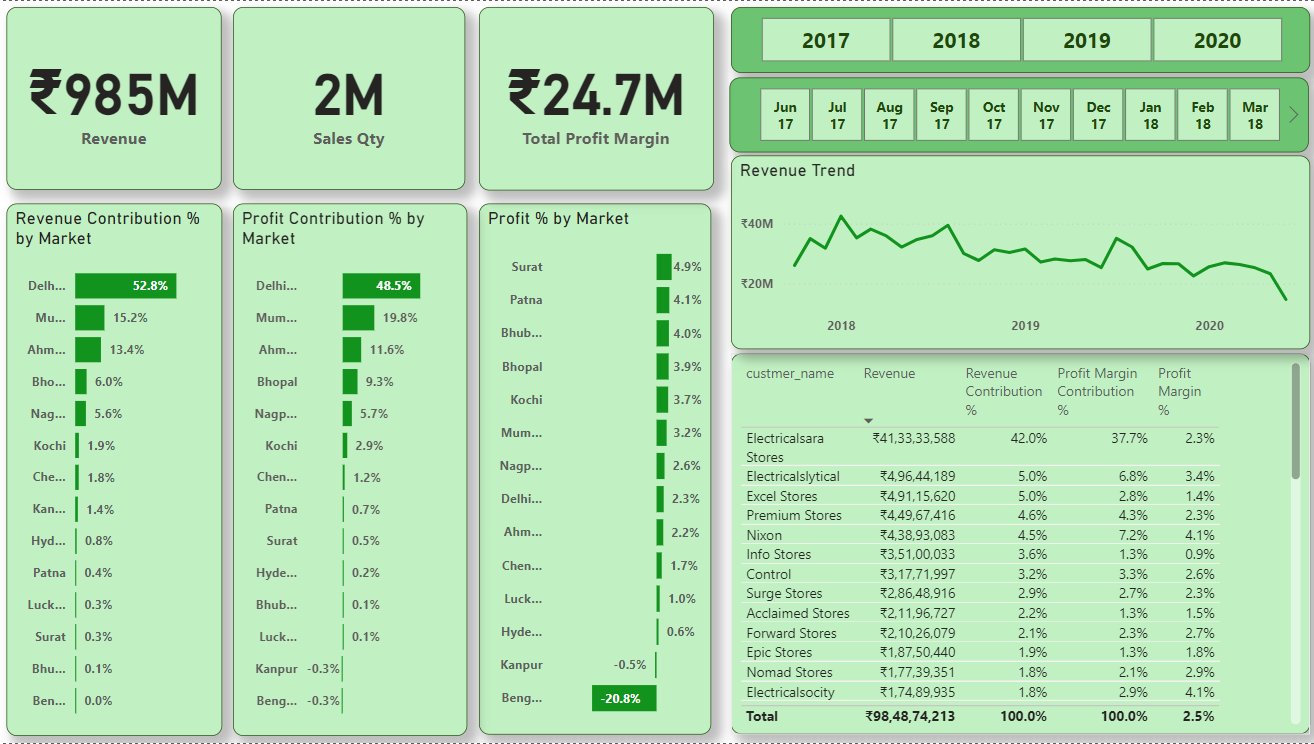

Layout of this report page (visuals, bound fields, positions):
{"tool":"powerbi","page":{"name":"Profit Analysis","canvas":[1280,720],"ordinal":1},"visuals":[{"type":"card","fields":{"Values":["BaseMeasures.Revenue"]},"box":[7.6,6.1,209,177.2],"z":0},{"type":"card","fields":{"Values":["BaseMeasures.Sales Qty"]},"box":[227.1,6.1,225.6,177.2],"z":1000},{"type":"barChart","title":"Profit % by Market","fields":{"Y":["BaseMeasures.Profit Margin %"],"Category":["sales markets.markets_name"]},"box":[465.8,196.5,225.6,515.3],"z":2000},{"type":"barChart","title":"Revenue Contribution % by Market","fields":{"Y":["BaseMeasures.Revenue Contribution %"],"Category":["sales markets.markets_name"]},"box":[7.3,196.5,209.6,516.7],"z":3000},{"type":"slicer","fields":{"Values":["sales date.year"]},"box":[710,6,562,64],"z":4000},{"type":"slicer","fields":{"Values":["sales date.cy_date"]},"box":[708.9,74.2,561.8,72.8],"z":5000},{"type":"tableEx","title":"Top 5 Customers","fields":{"Values":["sales customers.custmer_name","BaseMeasures.Revenue","BaseMeasures.Revenue Contribution %","BaseMeasures.Profit Margin Contribution %","BaseMeasures.Profit Margin %"]},"box":[710.2,342.2,561.8,369.5],"z":6000},{"type":"lineChart","title":"Revenue Trend","fields":{"Y":["Sum(sales transactions.sales_amount)"],"Category":["sales date.cy_date"]},"box":[710.3,149.9,561.8,187.8],"z":8000},{"type":"card","fields":{"Values":["BaseMeasures.Total Profit Margin"]},"box":[465.6,5.6,227.8,177.8],"z":9000},{"type":"barChart","title":"Profit Contribution % by Market","fields":{"Y":["BaseMeasures.Profit Margin Contribution %"],"Category":["sales markets.markets_name"]},"box":[227.1,196.5,227.1,516.7],"z":10000}]}

Visuals, with their boxes in screenshot pixels (x1, y1, x2, y2), scaled from the page's 1280x720 canvas onto the 1314x744 screenshot:
card - BaseMeasures.Revenue: box(8, 6, 222, 189)
card - BaseMeasures.Sales Qty: box(233, 6, 465, 189)
"Profit % by Market" barChart: box(478, 203, 710, 736)
"Revenue Contribution % by Market" barChart: box(7, 203, 223, 737)
slicer - sales date.year: box(729, 6, 1306, 72)
slicer - sales date.cy_date: box(728, 77, 1304, 152)
"Top 5 Customers" tableEx: box(729, 354, 1306, 735)
"Revenue Trend" lineChart: box(729, 155, 1306, 349)
card - BaseMeasures.Total Profit Margin: box(478, 6, 712, 190)
"Profit Contribution % by Market" barChart: box(233, 203, 466, 737)
